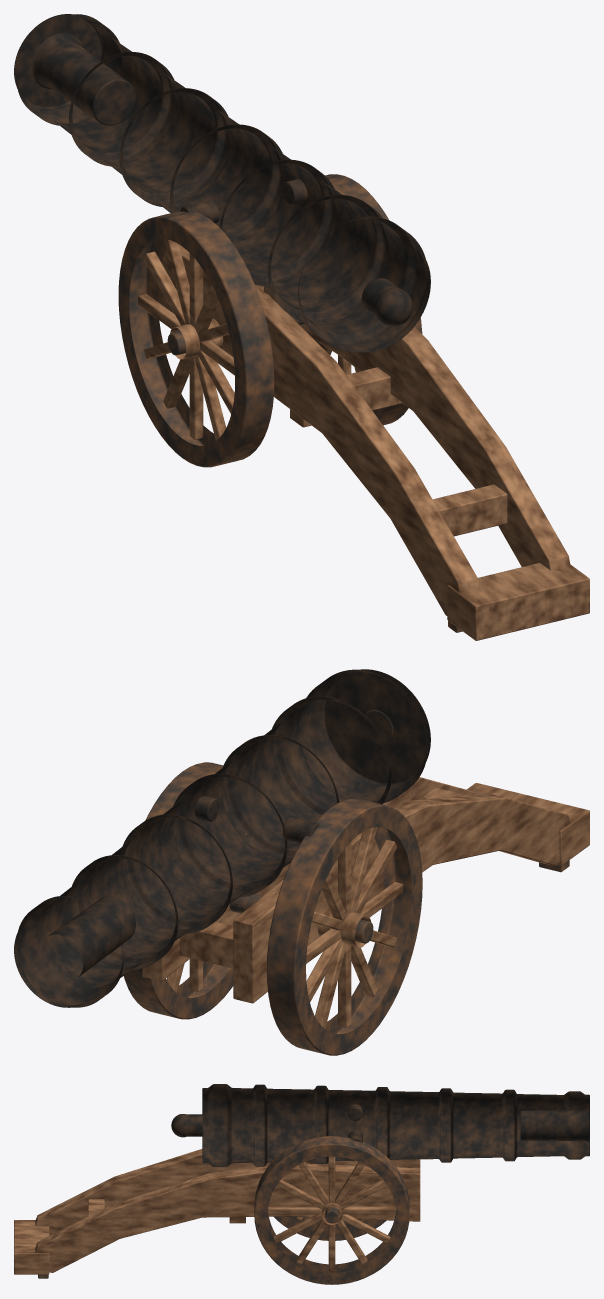
Rendered from ming_cannon.glb.
3 renders of one model, top to bottom at view 1: azimuth 30°, elevation 25°; view 2: azimuth 150°, elevation 25°; view 3: azimuth 270°, elevation 25°, orthographic. The views are drawn at different scales.
Visible parts, largest first — view 1: Cannon_Barrel, Cannon_Carriage, Wheel_R, Wheel_L; view 2: Cannon_Barrel, Wheel_R, Cannon_Carriage, Wheel_L; view 3: Cannon_Barrel, Cannon_Carriage, Wheel_L, Wheel_R.
Part boxes in pixels (<box>): Cannon_Barrel: <box>14,14,430,352</box>; Cannon_Carriage: <box>157,244,589,640</box>; Wheel_R: <box>118,211,274,467</box>; Wheel_L: <box>314,174,422,425</box>; Cannon_Barrel: <box>14,669,430,1007</box>; Wheel_R: <box>266,798,422,1055</box>; Cannon_Carriage: <box>142,777,589,1003</box>; Wheel_L: <box>124,762,233,1019</box>; Cannon_Barrel: <box>171,1084,589,1166</box>; Cannon_Carriage: <box>14,1149,420,1278</box>; Wheel_L: <box>254,1136,409,1284</box>; Wheel_R: <box>274,1216,386,1240</box>.
Bounding box in the file's own units: 1.16 × 1.63 × 4.89.
3 materials, 3 textured.
